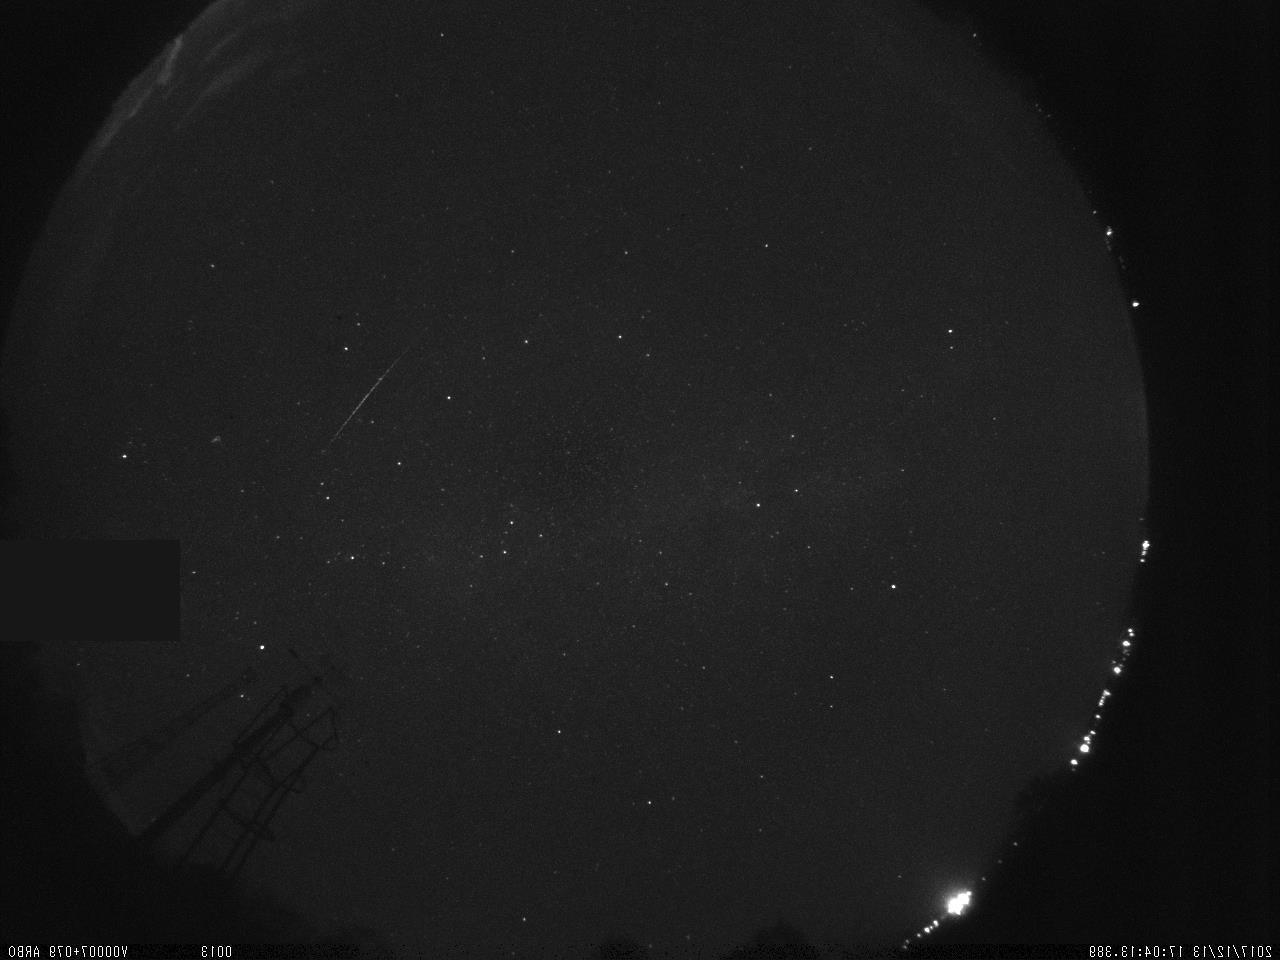meteor: (309, 345, 423, 448)
